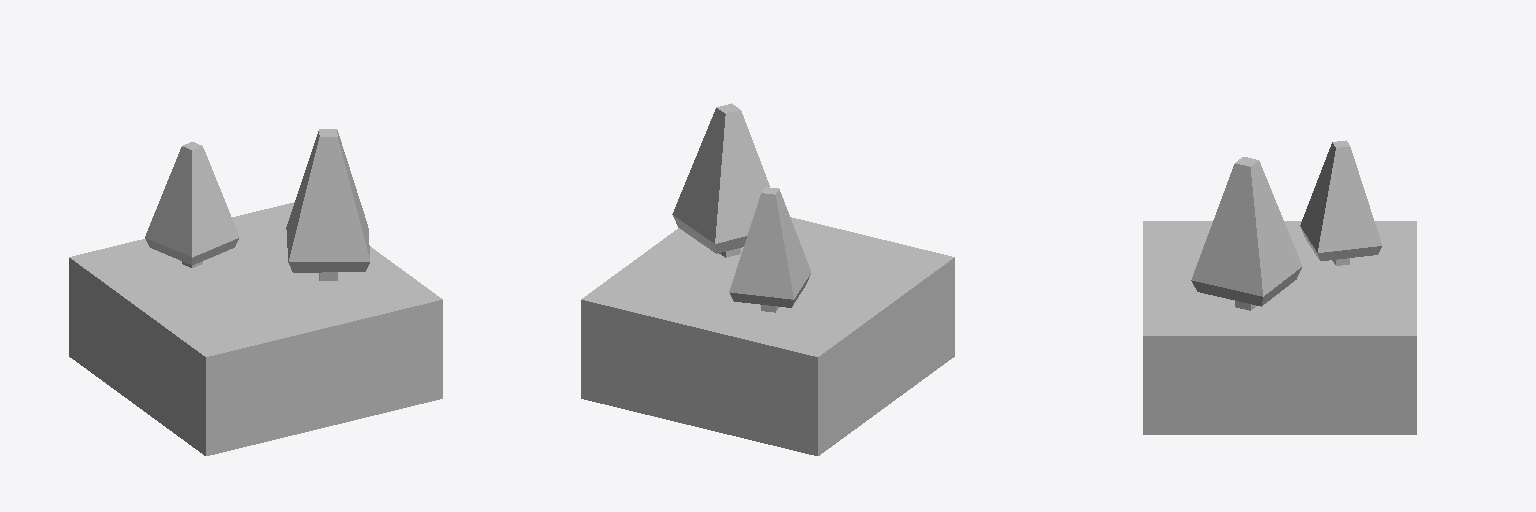
Rendered from towerDefense_057.obj.
The picture shows the model from 3 angles: view 1: azimuth 30°, elevation 25°; view 2: azimuth 150°, elevation 25°; view 3: azimuth 270°, elevation 25°; orthographic projection.
Visible parts, largest first — view 1: Mesh3 Group1 Model, Mesh1 Component_2_1 Group1 Model, Mesh2 Component_2_2 Group1 Model; view 2: Mesh3 Group1 Model, Mesh1 Component_2_1 Group1 Model, Mesh2 Component_2_2 Group1 Model; view 3: Mesh3 Group1 Model, Mesh1 Component_2_1 Group1 Model, Mesh2 Component_2_2 Group1 Model.
Part boxes in pixels (left/top/right/bottom): Mesh3 Group1 Model: left=69, top=202, right=442, bottom=455; Mesh1 Component_2_1 Group1 Model: left=286, top=129, right=369, bottom=280; Mesh2 Component_2_2 Group1 Model: left=145, top=142, right=239, bottom=267; Mesh3 Group1 Model: left=581, top=217, right=954, bottom=455; Mesh1 Component_2_1 Group1 Model: left=672, top=103, right=769, bottom=257; Mesh2 Component_2_2 Group1 Model: left=729, top=187, right=810, bottom=312; Mesh3 Group1 Model: left=1143, top=221, right=1416, bottom=434; Mesh1 Component_2_1 Group1 Model: left=1191, top=157, right=1302, bottom=310; Mesh2 Component_2_2 Group1 Model: left=1300, top=140, right=1381, bottom=265.
Size of the model in its own units: 1 by 0.9802 by 1.